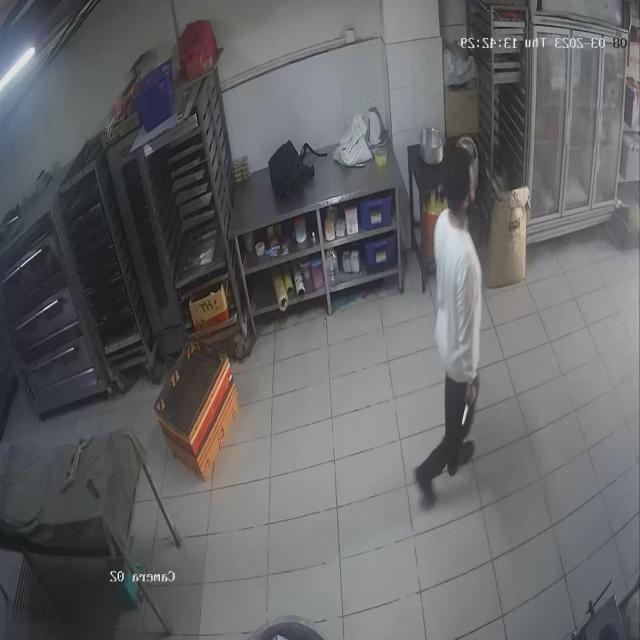Knife: (456, 388, 484, 437)
